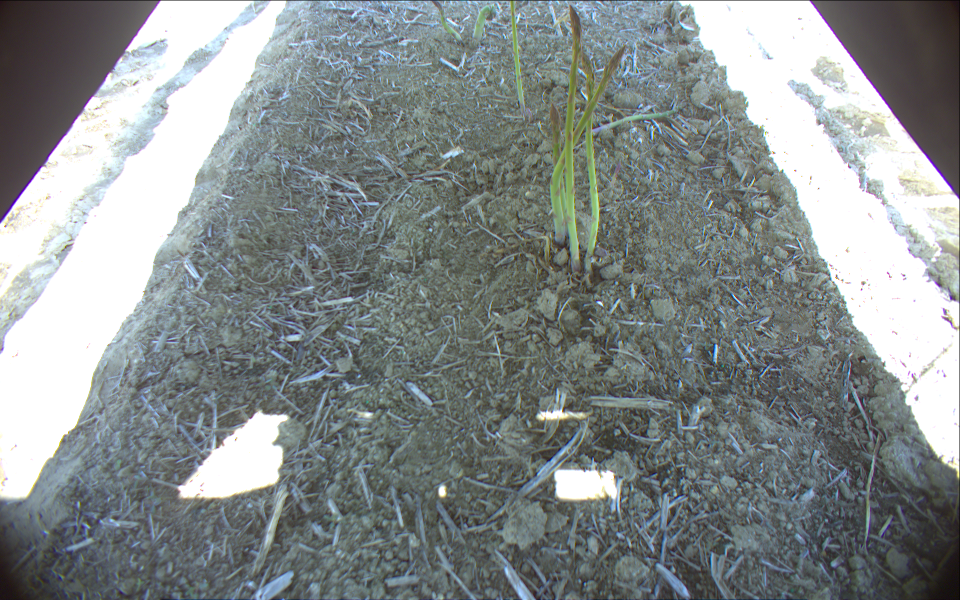aspa: (550, 43, 628, 249), (564, 2, 583, 273), (578, 42, 598, 271), (543, 103, 571, 239), (507, 1, 531, 119), (431, 1, 465, 46), (467, 1, 500, 44)
